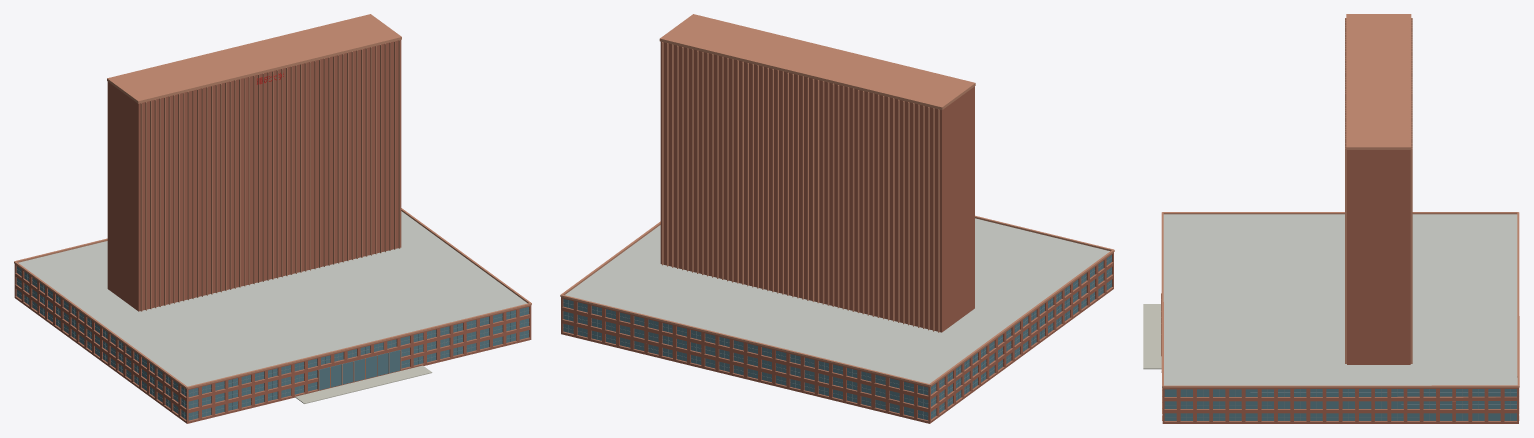
File: library.glb
3 renders of one model, left to right at view 1: azimuth 30°, elevation 25°; view 2: azimuth 150°, elevation 25°; view 3: azimuth 270°, elevation 25°, orthographic. The views are drawn at different scales.
Parts seen in each view (by area): view 1: wall, trim, roof, glass, metal, paving; view 2: wall, trim, roof, glass, metal; view 3: roof, wall, trim, glass, paving, metal.
Boxes of the visible parts, <box> form: wall: <box>14,40,531,423</box>; trim: <box>14,14,531,421</box>; roof: <box>18,211,527,386</box>; glass: <box>16,266,528,420</box>; metal: <box>17,268,528,419</box>; paving: <box>295,365,432,403</box>; wall: <box>561,41,1113,423</box>; trim: <box>560,14,1114,421</box>; roof: <box>565,218,1109,383</box>; glass: <box>563,254,1111,420</box>; metal: <box>563,257,1111,418</box>; roof: <box>1163,214,1517,385</box>; wall: <box>1162,150,1518,423</box>; trim: <box>1161,14,1519,421</box>; glass: <box>1164,389,1516,420</box>; paving: <box>1143,304,1161,369</box>; metal: <box>1165,389,1516,420</box>.
Size of the model in its own units: 97.4 by 66.7 by 88.71.
